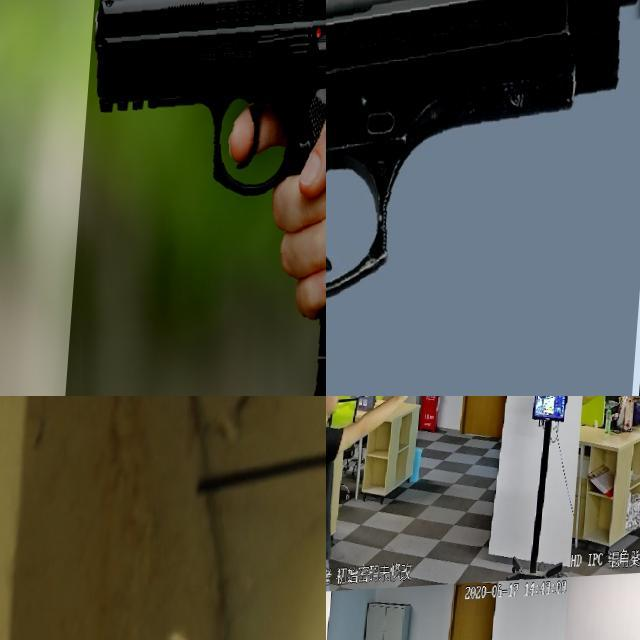gun-knife-thesis - v11 Yolov5 augmented: (326, 0, 640, 396), (71, 0, 326, 396), (390, 396, 426, 428)
